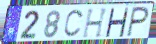2: (19, 9, 42, 41)
8: (43, 10, 62, 39)
C: (62, 9, 85, 39)
H: (81, 7, 110, 39), (104, 7, 130, 38)
P: (126, 6, 150, 38)
